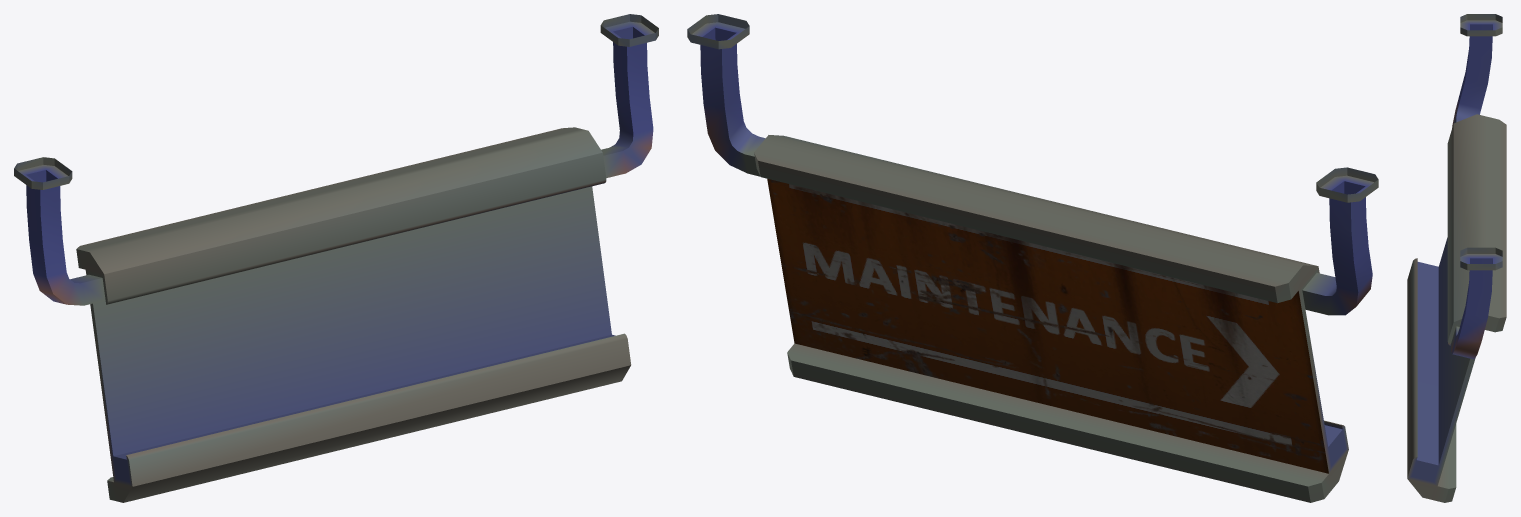
Rendered from sign_upsilon_maintenance_room.DAE.
3 views of the same model, side by side, from view 1: azimuth 30°, elevation 25°; view 2: azimuth 150°, elevation 25°; view 3: azimuth 270°, elevation 25° (orthographic). The views are drawn at different scales.
Parts seen in each view (by area): view 1: pCube1; view 2: sign, pCube1; view 3: pCube1.
Part boxes in pixels (box(x1,y1,x2,y2)): pCube1: box(14, 14, 658, 502); sign: box(767, 179, 1328, 473); pCube1: box(687, 14, 1378, 502); pCube1: box(1407, 14, 1506, 502).
Size of the model in its own units: 2.52 by 1.25 by 0.4229.
